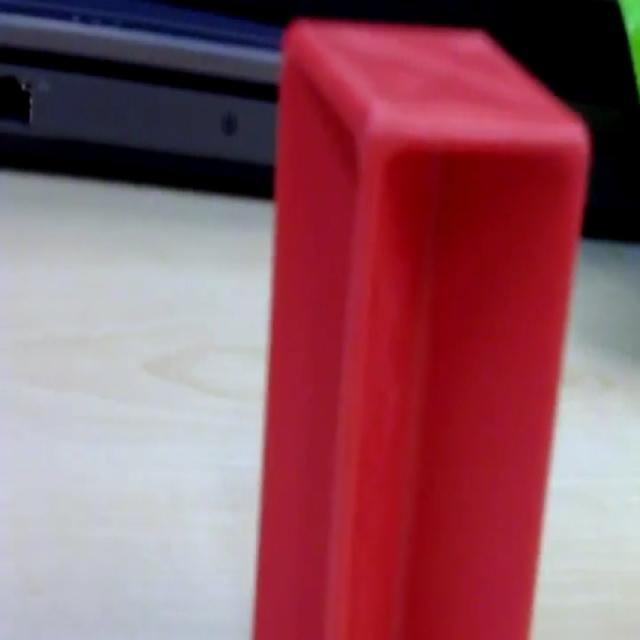red_block: (251, 16, 592, 636)
